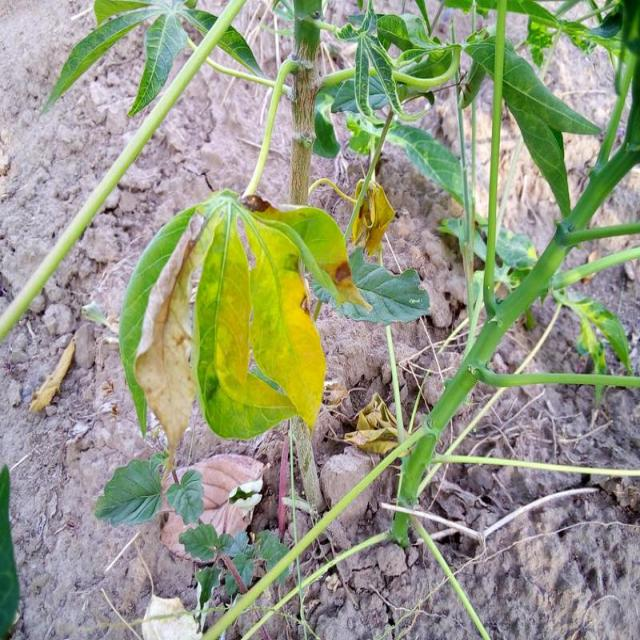cassava leaf: (118, 186, 430, 468)
